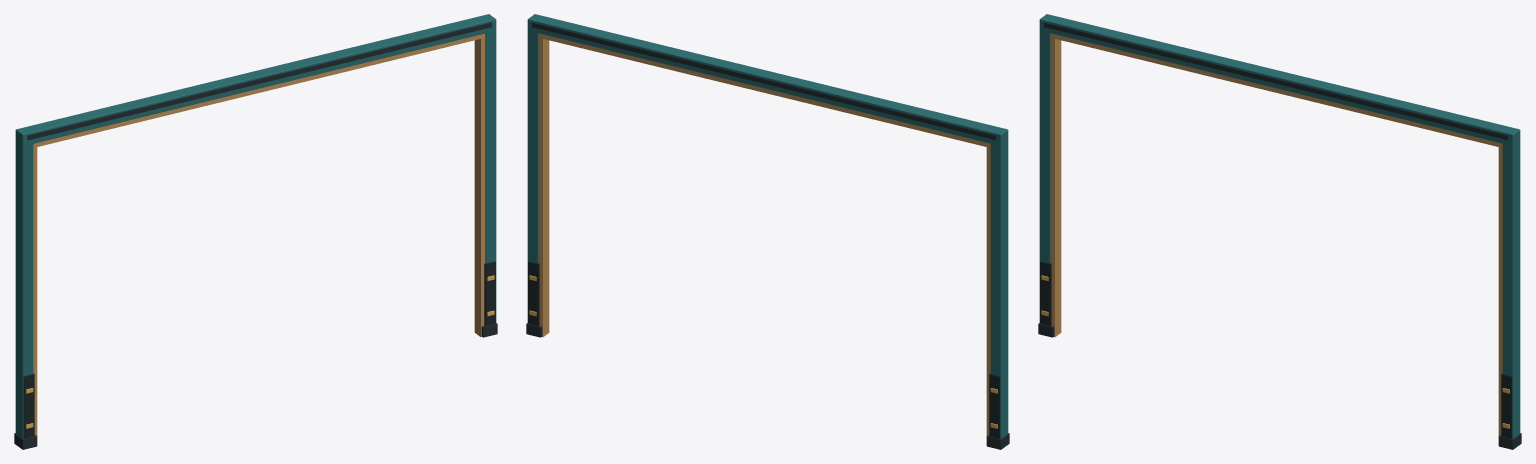
The model's file is large-gate.glb.
3 renders of one model, left to right at view 1: azimuth 30°, elevation 25°; view 2: azimuth 150°, elevation 25°; view 3: azimuth 330°, elevation 25°, orthographic.
Parts seen in each view (by area): view 1: large-gate__batch_04, large-gate__batch_03, large-gate__batch_01, large-gate__batch_00; view 2: large-gate__batch_04, large-gate__batch_03, large-gate__batch_01, large-gate__batch_00; view 3: large-gate__batch_04, large-gate__batch_03, large-gate__batch_01, large-gate__batch_00.
Boxes of the visible parts, x1,y1,x2,y2 form: large-gate__batch_04: (15,14,496,438); large-gate__batch_03: (33,33,485,435); large-gate__batch_01: (14,22,497,449); large-gate__batch_00: (23,261,495,438); large-gate__batch_04: (527,14,1008,438); large-gate__batch_03: (538,33,990,435); large-gate__batch_01: (526,22,1009,449); large-gate__batch_00: (528,261,1000,438); large-gate__batch_04: (1039,14,1520,438); large-gate__batch_03: (1050,33,1502,435); large-gate__batch_01: (1038,22,1521,449); large-gate__batch_00: (1040,261,1512,438).
Size of the model in its own units: 7.5 by 4.75 by 0.25.
